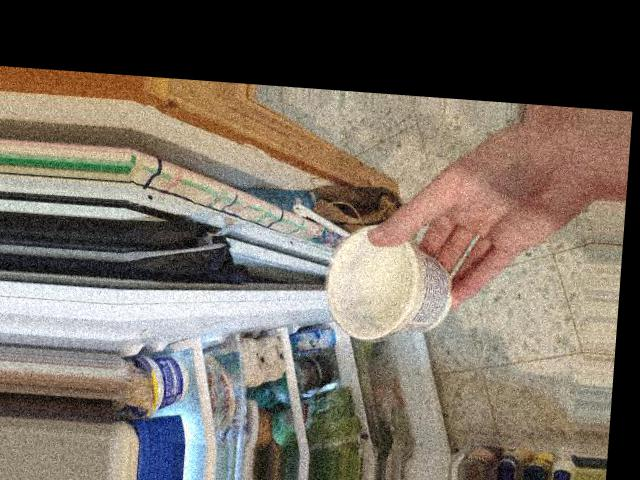cotage: (328, 236, 454, 343)
